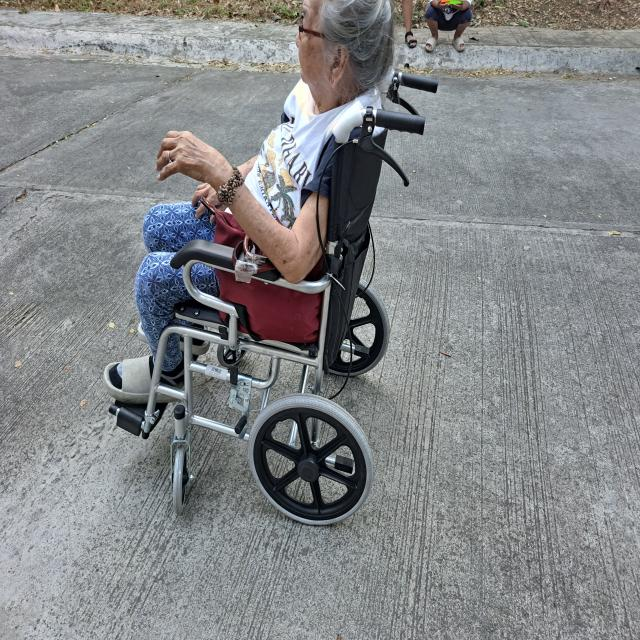wheelchairs: (104, 67, 444, 541)
